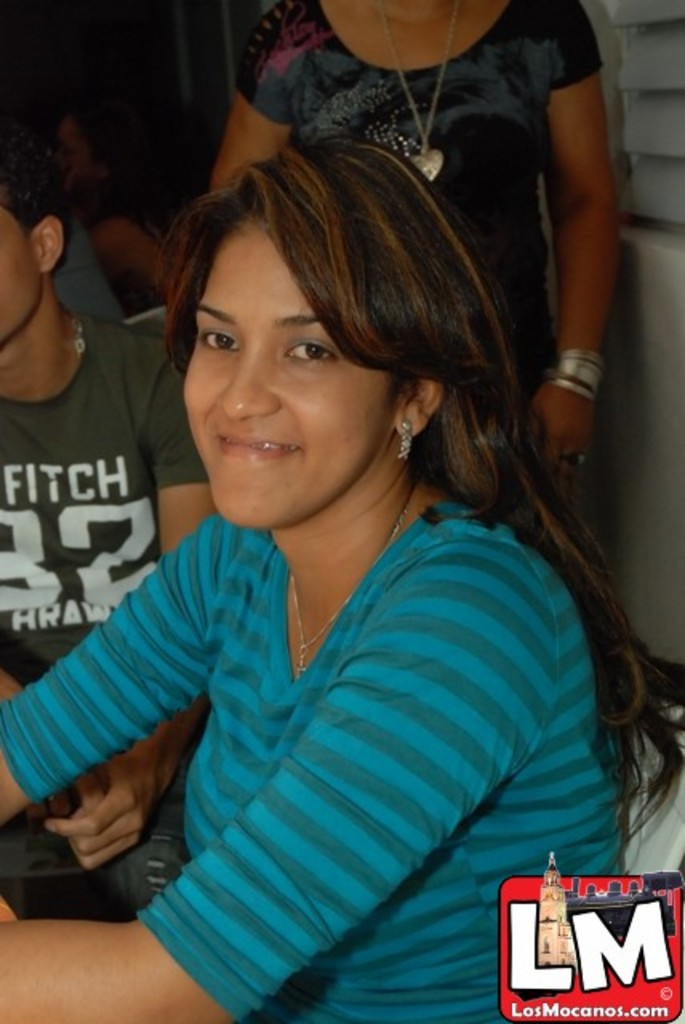Human_hand: (46, 725, 190, 875), (527, 379, 599, 507), (24, 766, 110, 827)
